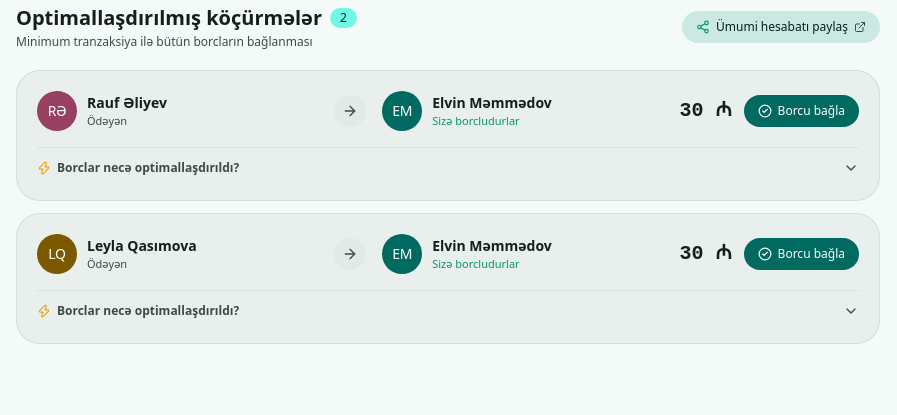
Test case: Task 8: Transfers Tab, One-Click Settle-Up, WhatsApp Sharing & Confetti › TransfersTab Component › toggles explanation accordion showing triangular debt collapse logic
Expected: the text "Rauf Əliyev Elvin Məmmədov şəxsinə 30 ₼ ödəməlidir" is not shown
Click first toggle
Click the button "Borclar necə optimallaşdırıldı?" below "RƏ": [148, 168] box [37, 156, 859, 180]
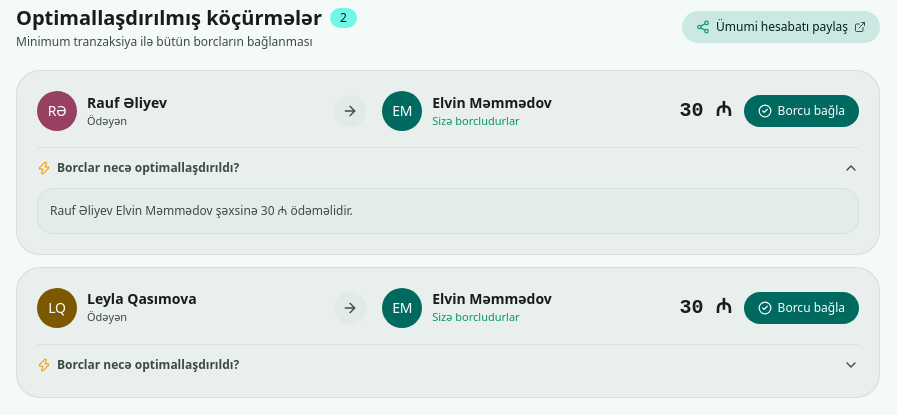
Now the text "Rauf Əliyev Elvin Məmmədov şəxsinə 30 ₼ ödəməlidir." is shown, box [50, 202, 353, 219]
Click again to collapse
Click the button "Borclar necə optimallaşdırıldı?" below "RƏ": [148, 168] box [37, 156, 859, 180]
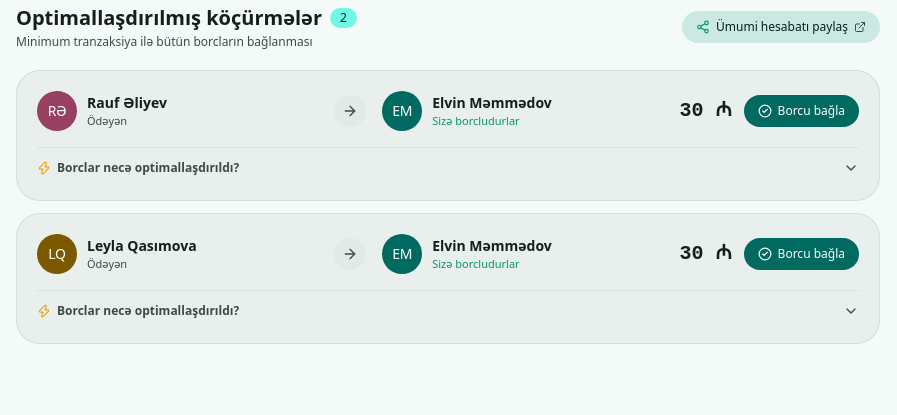
Now the text "Rauf Əliyev Elvin Məmmədov şəxsinə 30 ₼ ödəməlidir" is gone
